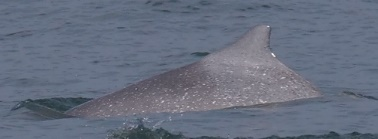fin: (62, 7, 334, 123)
